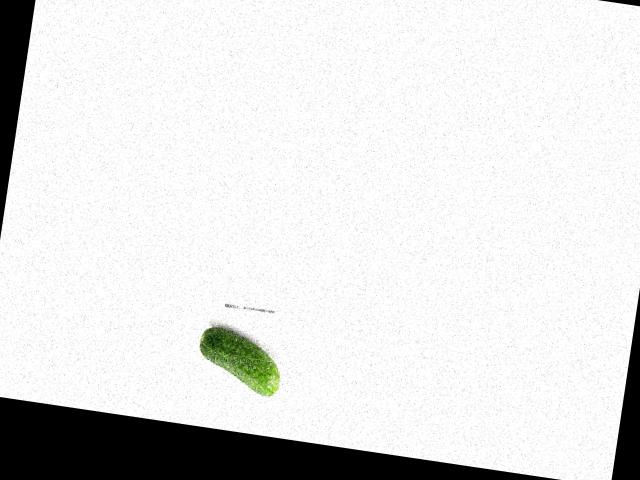cucumber: (193, 324, 285, 397)
